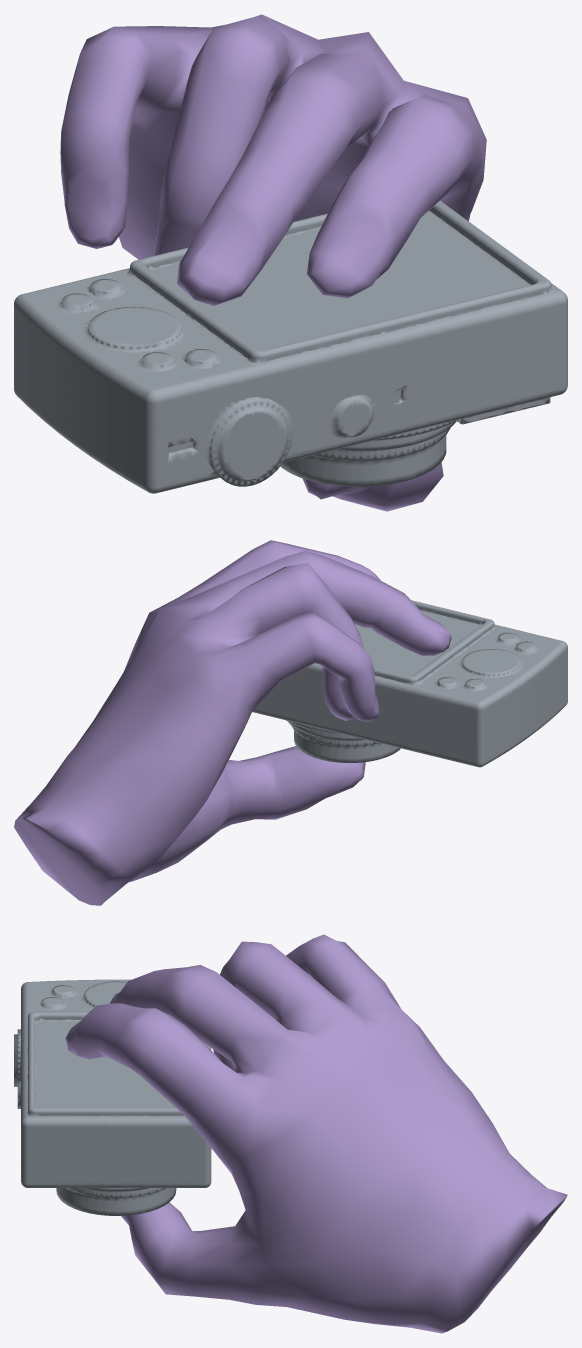
File: ours_2.glb
3 renders of one model, top to bottom at view 1: azimuth 30°, elevation 25°; view 2: azimuth 150°, elevation 25°; view 3: azimuth 270°, elevation 25°, orthographic. The views are drawn at different scales.
Size of the model in its own units: 0.1481 by 0.1196 by 0.1893.
